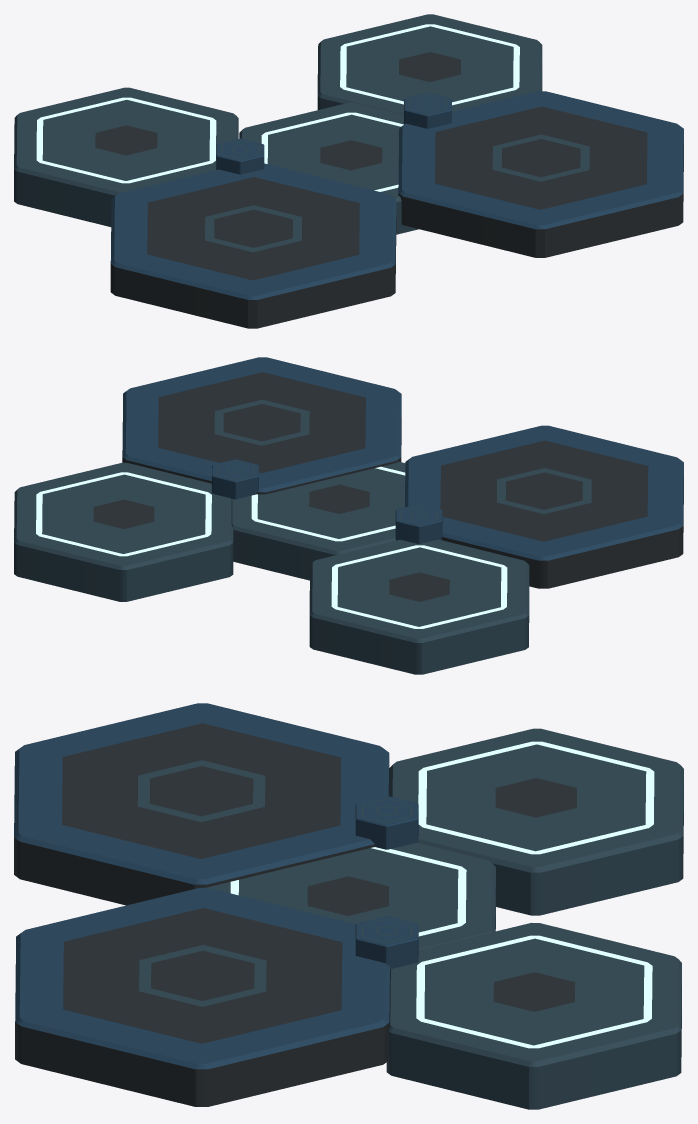
The model's file is aero-ground-hexagons-02-art.glb.
The picture shows the model from 3 angles, top to bottom: view 1: azimuth 30°, elevation 25°; view 2: azimuth 150°, elevation 25°; view 3: azimuth 270°, elevation 25°; orthographic projection. The views are drawn at different scales.
Visible parts, largest first — view 1: Aero_Ground_Hexagons_02_Art; view 2: Aero_Ground_Hexagons_02_Art; view 3: Aero_Ground_Hexagons_02_Art.
Boxes of the visible parts, x1,y1,x2,y2 form: Aero_Ground_Hexagons_02_Art: [14, 14, 683, 328]; Aero_Ground_Hexagons_02_Art: [14, 357, 683, 674]; Aero_Ground_Hexagons_02_Art: [14, 703, 683, 1109].
Size of the model in its own units: 16.7 by 2.02 by 12.98.
Materials: 4 (1 with a texture image).
